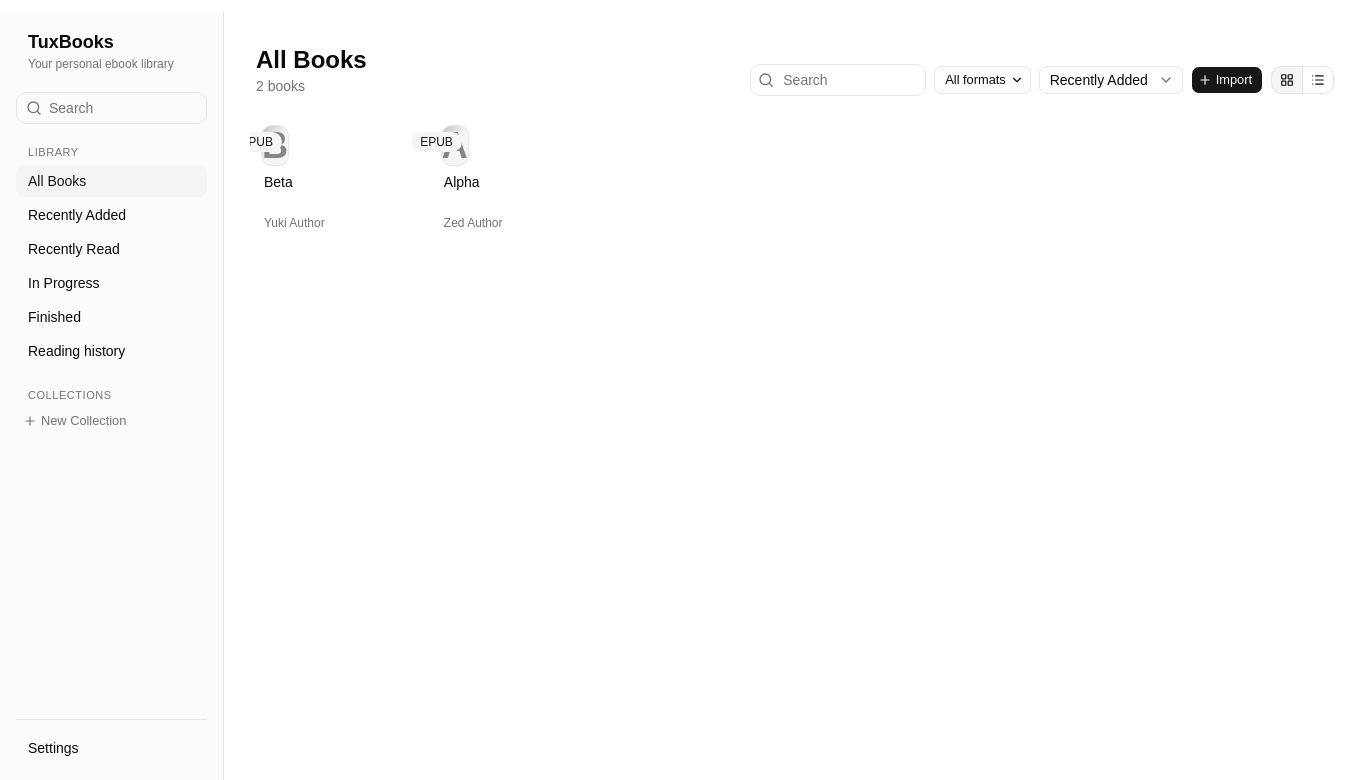
Test: LibraryView selection and opening › opens the detail view with Enter on a focused card
This screenshot has width=1366, height=780.
Click the button with test id "book-card" at coordinates (294, 180), box top-left (256, 120), bottom-right (333, 241)
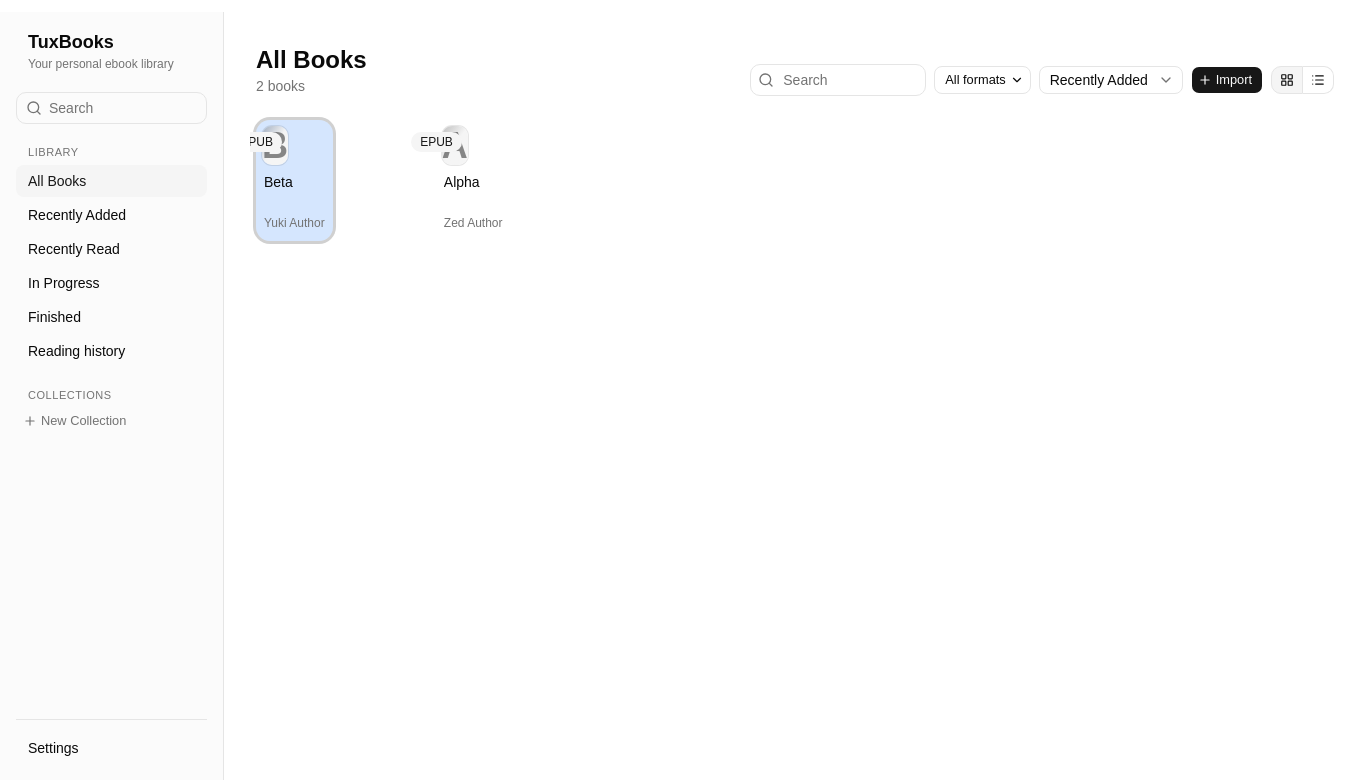
Press Enter in the button with test id "book-card", box top-left (256, 120), bottom-right (333, 241)
(page scrolled)
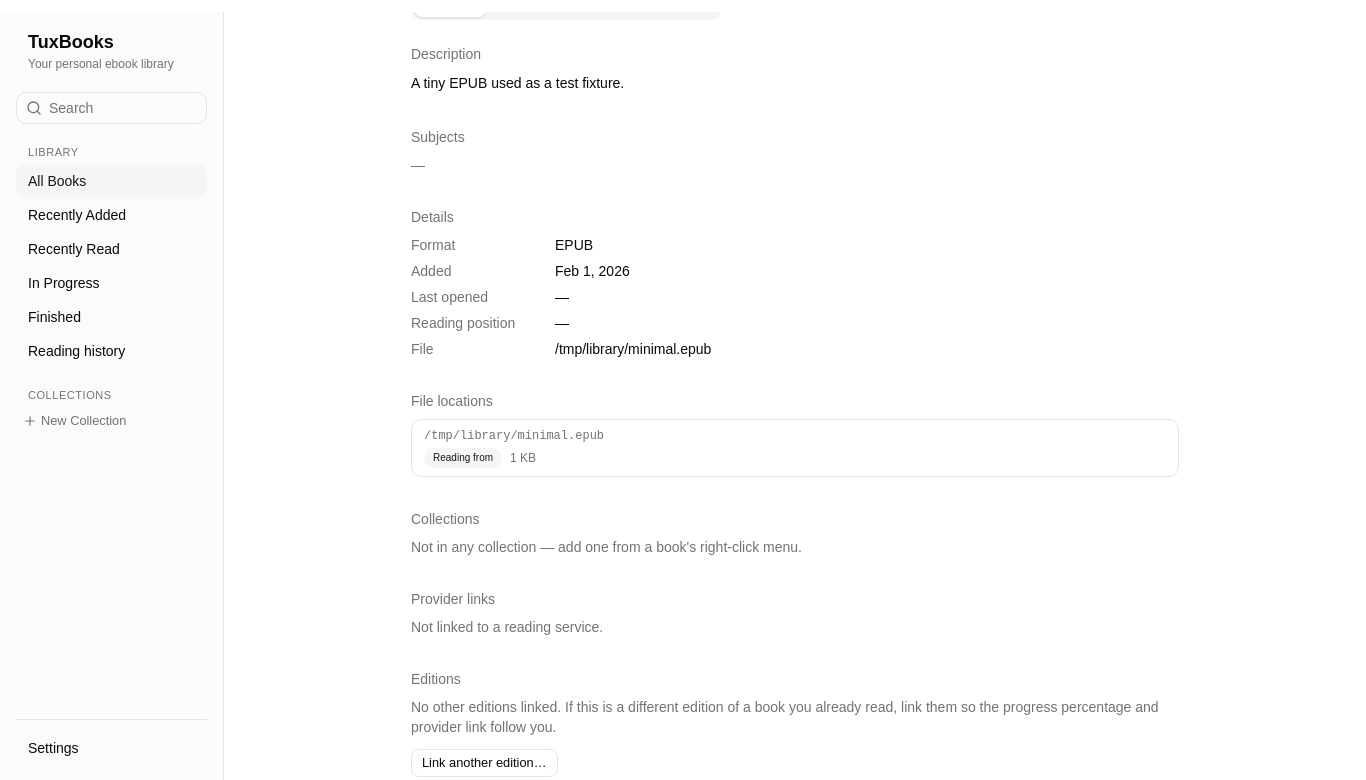
Check: the element with test id "book-detail" is shown, box top-left (411, 12), bottom-right (1179, 779)
